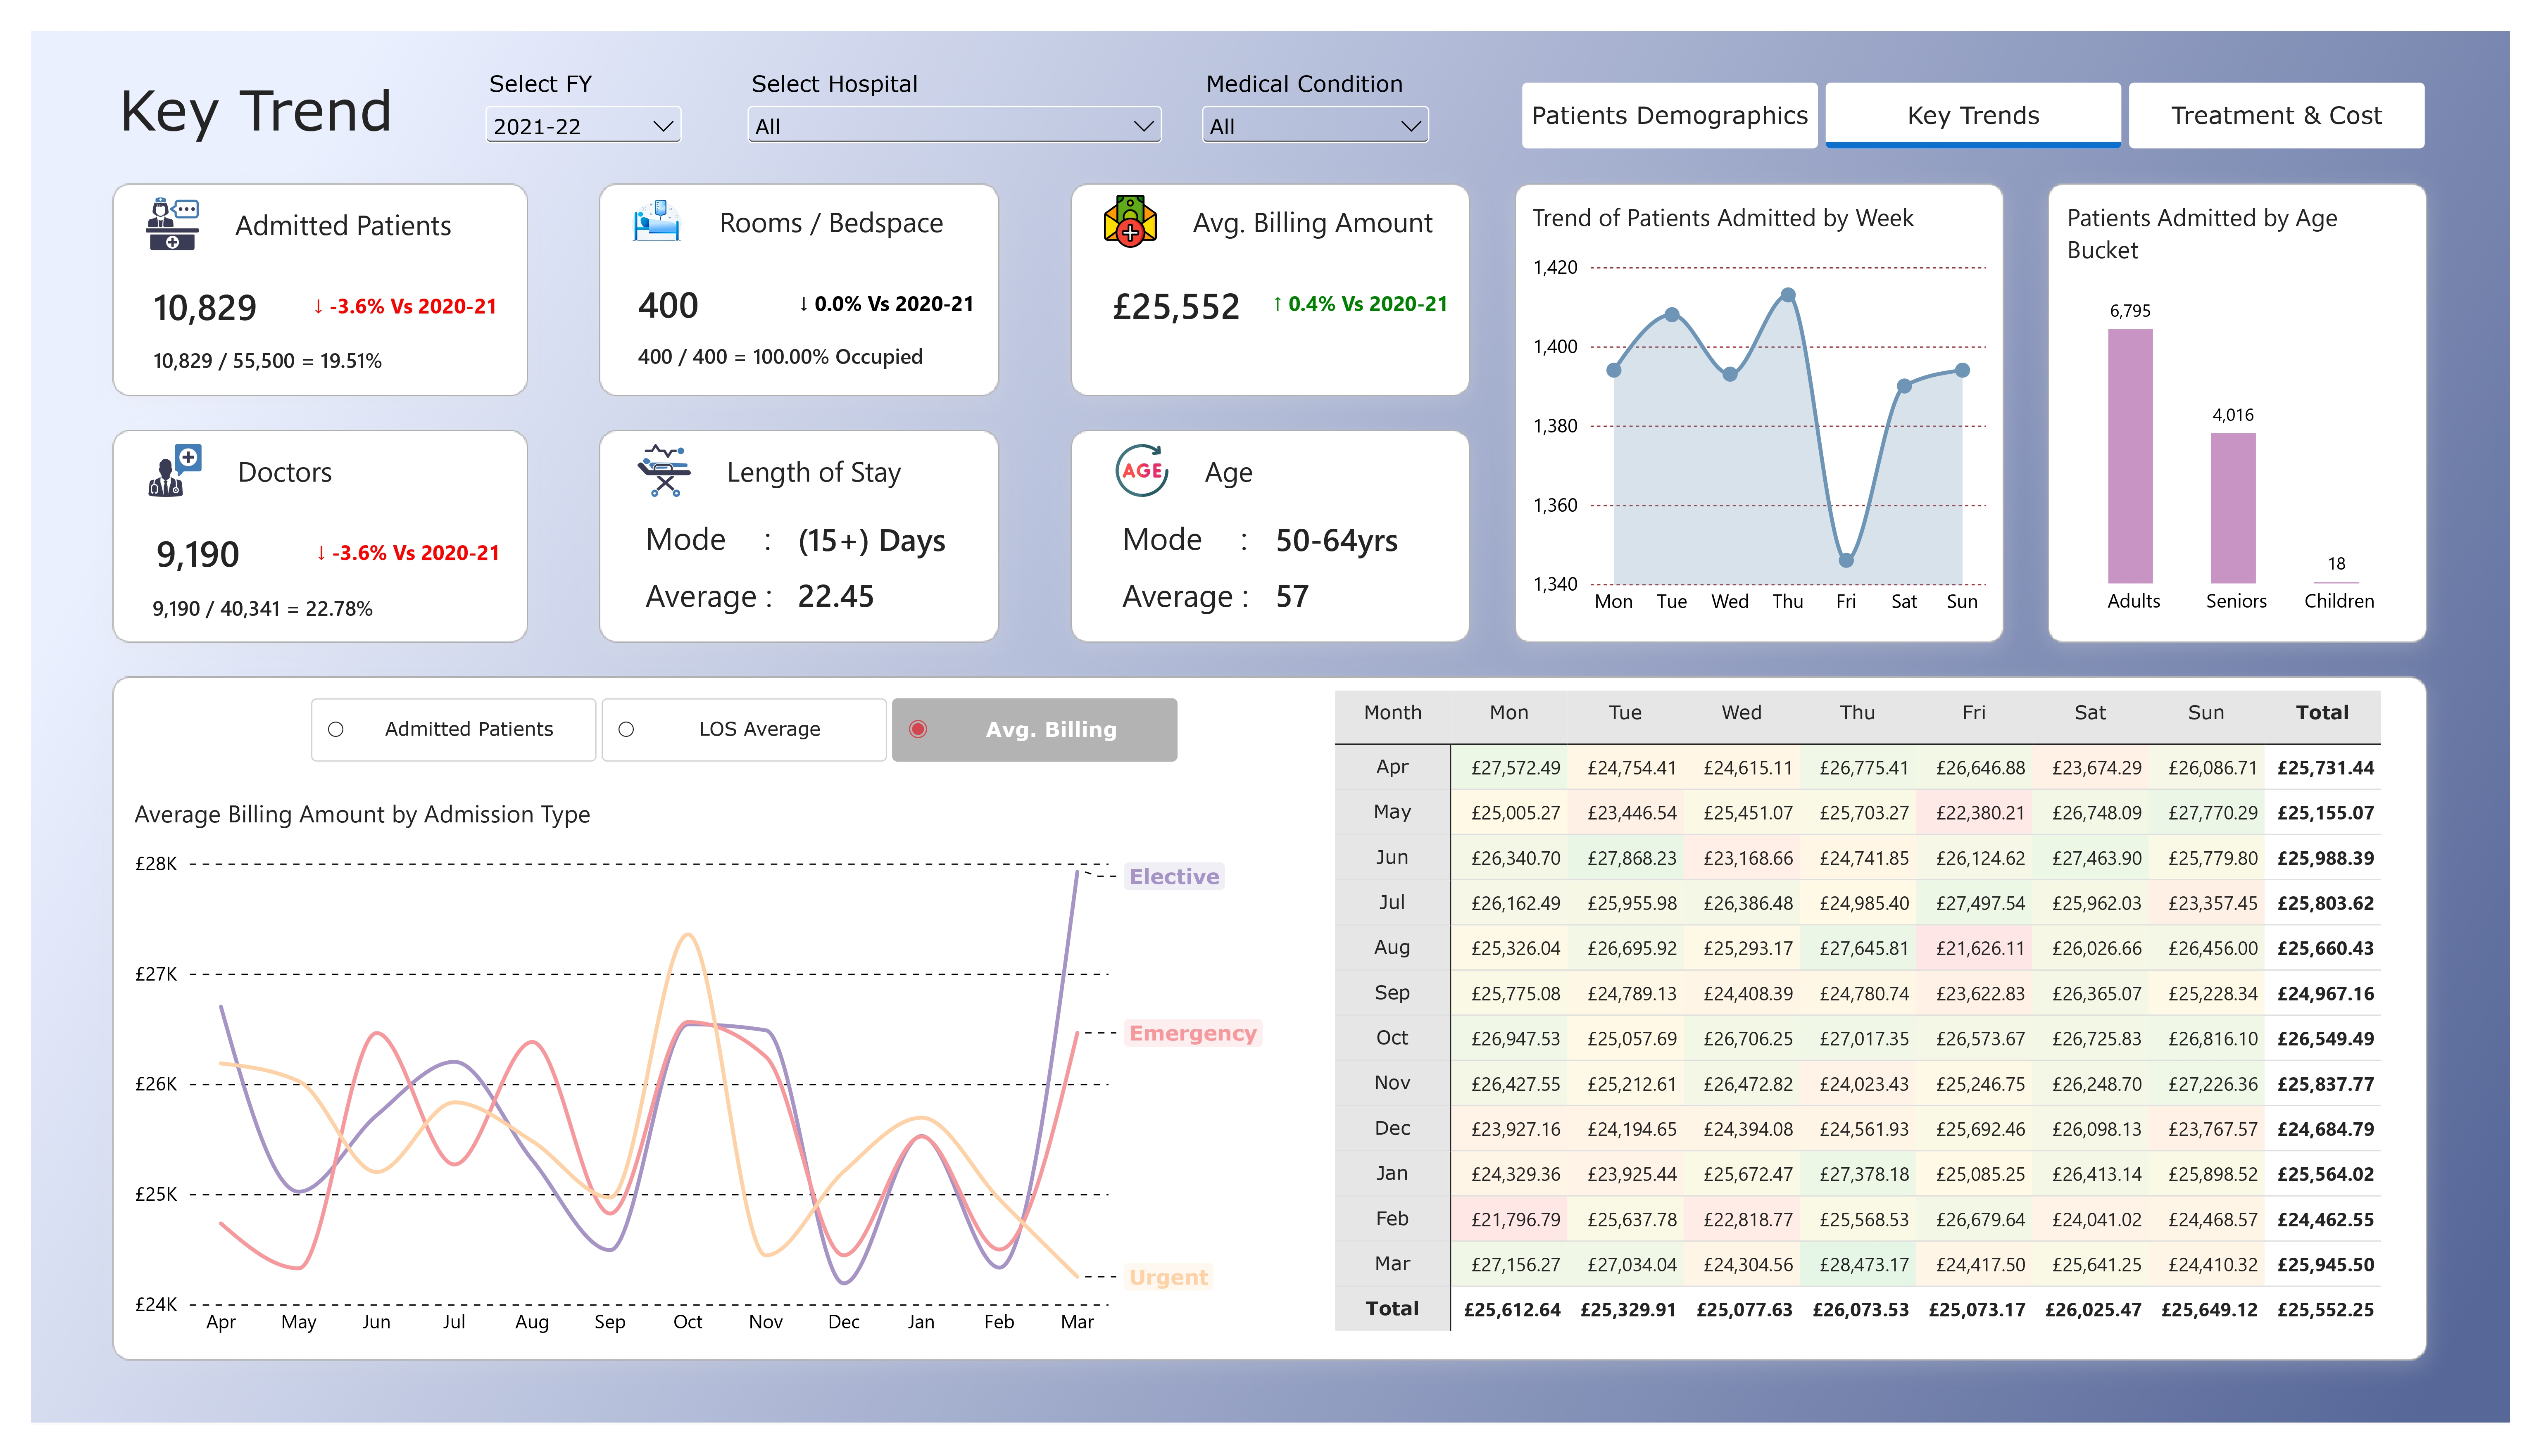

The dashboard page shown, as its layout file describes it:
{"tool":"powerbi","page":{"name":"Key Trends","canvas":[1920,1080],"ordinal":1},"visuals":[{"type":"slicer","fields":{"Values":["Calendar.FY"]},"box":[347,30.1,162.3,65.2],"z":0},{"type":"cardVisual","fields":{"Data":["DAX.Admitted Patients"]},"box":[78.6,171.4,172.3,82.9],"z":1000},{"type":"image","box":[78.5,129,61.2,41.2],"z":2000},{"type":"textbox","box":[157.5,135,187.5,28.8],"z":3000},{"type":"cardVisual","fields":{"Data":["DAX.Adm YoY"]},"box":[202.9,177.1,201.4,70],"z":4000},{"type":"cardVisual","fields":{"Data":["DAX.Admitted P Text"]},"box":[78.6,227.1,235.7,54.3],"z":5000},{"type":"cardVisual","fields":{"Data":["DAX.Rooms"]},"box":[454.3,169.2,172.3,82.9],"z":6000},{"type":"image","box":[454.3,127.1,61,41],"z":7000},{"type":"textbox","box":[533.2,132.8,187.5,28.8],"z":8000},{"type":"cardVisual","fields":{"Data":["DAX.Room YoY"]},"box":[578.6,174.9,201.4,70],"z":9000},{"type":"cardVisual","fields":{"Data":["DAX.Rooms Occupied Text"]},"box":[454.3,224.3,265.7,54.3],"z":10000},{"type":"cardVisual","fields":{"Data":["DAX.Avg Billing Amt"]},"box":[821.2,169.8,172.3,82.9],"z":11000},{"type":"image","box":[820.9,127.2,61.2,41.3],"z":12000},{"type":"textbox","box":[900.2,133.3,187.5,28.8],"z":13000},{"type":"cardVisual","fields":{"Data":["DAX.Bill YoY"]},"box":[945.5,175.5,201.4,70],"z":14000},{"type":"cardVisual","fields":{"Data":["DAX.Doctors"]},"box":[81.1,362.2,172.3,82.9],"z":15000},{"type":"image","box":[81,319.7,61.2,41.2],"z":16000},{"type":"textbox","box":[160.1,325.7,187.5,28.8],"z":17000},{"type":"cardVisual","fields":{"Data":["DAX.Doc YoY"]},"box":[205.4,367.9,201.4,70],"z":18000},{"type":"cardVisual","fields":{"Data":["DAX.Doc Text"]},"box":[78,419.2,235.7,54.3],"z":19000},{"type":"cardVisual","fields":{"Data":["DAX.Mode Age"]},"box":[947.9,371.5,155.1,42.7],"z":20000},{"type":"image","box":[829.7,319.8,61.2,41.2],"z":21000},{"type":"textbox","box":[908.8,325.8,187.5,28.8],"z":22000},{"type":"cardVisual","fields":{"Data":["DAX.Average Age of Group"]},"box":[947.9,416,118.1,39.9],"z":23000},{"type":"textbox","box":[845.4,375.7,156.6,34.2],"z":24000},{"type":"textbox","box":[845.4,419.9,123.8,34.2],"z":25000},{"type":"cardVisual","fields":{"Data":["DAX.Mode LOS"]},"box":[577.9,371.5,251.9,42.7],"z":26000},{"type":"image","box":[460.1,319.8,61.2,41.2],"z":27000},{"type":"textbox","box":[539.2,325.8,187.5,28.8],"z":28000},{"type":"cardVisual","fields":{"Data":["DAX.Average LOS of Group"]},"box":[578.3,416,118.1,39.9],"z":29000},{"type":"textbox","box":[475.8,375.7,156.6,34.2],"z":30000},{"type":"textbox","box":[475.8,419.9,123.8,34.2],"z":31000},{"type":"slicer","fields":{"Values":["HealthData.Hospital"]},"box":[550.3,29.5,331.1,60.6],"z":32000},{"type":"slicer","fields":{"Values":["DimCondition.Medical Condition"]},"box":[901.6,30.1,186.2,65.2],"z":33000},{"type":"areaChart","title":"Trend of Patients Admitted by Week","fields":{"Category":["HealthData.Day Name"],"Y":["DAX.Admitted Patients"]},"box":[1147.1,117.1,382.9,355.7],"z":34000},{"type":"clusteredColumnChart","title":"Patients Admitted by Age Bucket","fields":{"Category":["HealthData.Age Range"],"Y":["DAX.Admitted Patients"]},"box":[1561.4,117.1,294.3,355.7],"z":35000},{"type":"advancedSlicerVisual","fields":{"Values":["P2 Parameter.P2 Parameter"]},"box":[197.1,517.1,711.4,48.6],"z":36000},{"type":"lineChart","fields":{"Category":["Calendar.FY Month"],"Series":["HealthData.Admission Type"],"Y":["DAX.Avg Billing Amt"]},"box":[64.3,578.6,905.7,452.9],"z":37000},{"type":"pivotTable","fields":{"Columns":["HealthData.Day Name"],"Rows":["Calendar.FY Month"],"Values":["DAX.Avg Billing Amt"]},"box":[994.3,497.1,861.4,534.3],"z":38000},{"type":"pageNavigator","box":[1155.1,40.4,701,50.5],"z":38001},{"type":"textbox","box":[67.6,33.8,245.9,55.4],"z":38002}]}

Visuals, with their boxes on the page's 1920x1080 design canvas (x1, y1, x2, y2). These are canvas units, not pixel positions in the 2541x1456 screenshot, which may show the page scaled, cropped or inside an application window:
slicer - Calendar.FY: left=347, top=30, right=509, bottom=95
cardVisual - DAX.Admitted Patients: left=79, top=171, right=251, bottom=254
image: left=78, top=129, right=140, bottom=170
textbox: left=158, top=135, right=345, bottom=164
cardVisual - DAX.Adm YoY: left=203, top=177, right=404, bottom=247
cardVisual - DAX.Admitted P Text: left=79, top=227, right=314, bottom=281
cardVisual - DAX.Rooms: left=454, top=169, right=627, bottom=252
image: left=454, top=127, right=515, bottom=168
textbox: left=533, top=133, right=721, bottom=162
cardVisual - DAX.Room YoY: left=579, top=175, right=780, bottom=245
cardVisual - DAX.Rooms Occupied Text: left=454, top=224, right=720, bottom=279
cardVisual - DAX.Avg Billing Amt: left=821, top=170, right=994, bottom=253
image: left=821, top=127, right=882, bottom=168
textbox: left=900, top=133, right=1088, bottom=162
cardVisual - DAX.Bill YoY: left=946, top=176, right=1147, bottom=246
cardVisual - DAX.Doctors: left=81, top=362, right=253, bottom=445
image: left=81, top=320, right=142, bottom=361
textbox: left=160, top=326, right=348, bottom=354
cardVisual - DAX.Doc YoY: left=205, top=368, right=407, bottom=438
cardVisual - DAX.Doc Text: left=78, top=419, right=314, bottom=474
cardVisual - DAX.Mode Age: left=948, top=372, right=1103, bottom=414
image: left=830, top=320, right=891, bottom=361
textbox: left=909, top=326, right=1096, bottom=355
cardVisual - DAX.Average Age of Group: left=948, top=416, right=1066, bottom=456
textbox: left=845, top=376, right=1002, bottom=410
textbox: left=845, top=420, right=969, bottom=454
cardVisual - DAX.Mode LOS: left=578, top=372, right=830, bottom=414
image: left=460, top=320, right=521, bottom=361
textbox: left=539, top=326, right=727, bottom=355
cardVisual - DAX.Average LOS of Group: left=578, top=416, right=696, bottom=456
textbox: left=476, top=376, right=632, bottom=410
textbox: left=476, top=420, right=600, bottom=454
slicer - HealthData.Hospital: left=550, top=30, right=881, bottom=90
slicer - DimCondition.Medical Condition: left=902, top=30, right=1088, bottom=95
"Trend of Patients Admitted by Week" areaChart: left=1147, top=117, right=1530, bottom=473
"Patients Admitted by Age Bucket" clusteredColumnChart: left=1561, top=117, right=1856, bottom=473
advancedSlicerVisual - P2 Parameter.P2 Parameter: left=197, top=517, right=908, bottom=566
lineChart - Calendar.FY Month x HealthData.Admission Type: left=64, top=579, right=970, bottom=1032
pivotTable - HealthData.Day Name x Calendar.FY Month: left=994, top=497, right=1856, bottom=1031
pageNavigator: left=1155, top=40, right=1856, bottom=91
textbox: left=68, top=34, right=314, bottom=89
